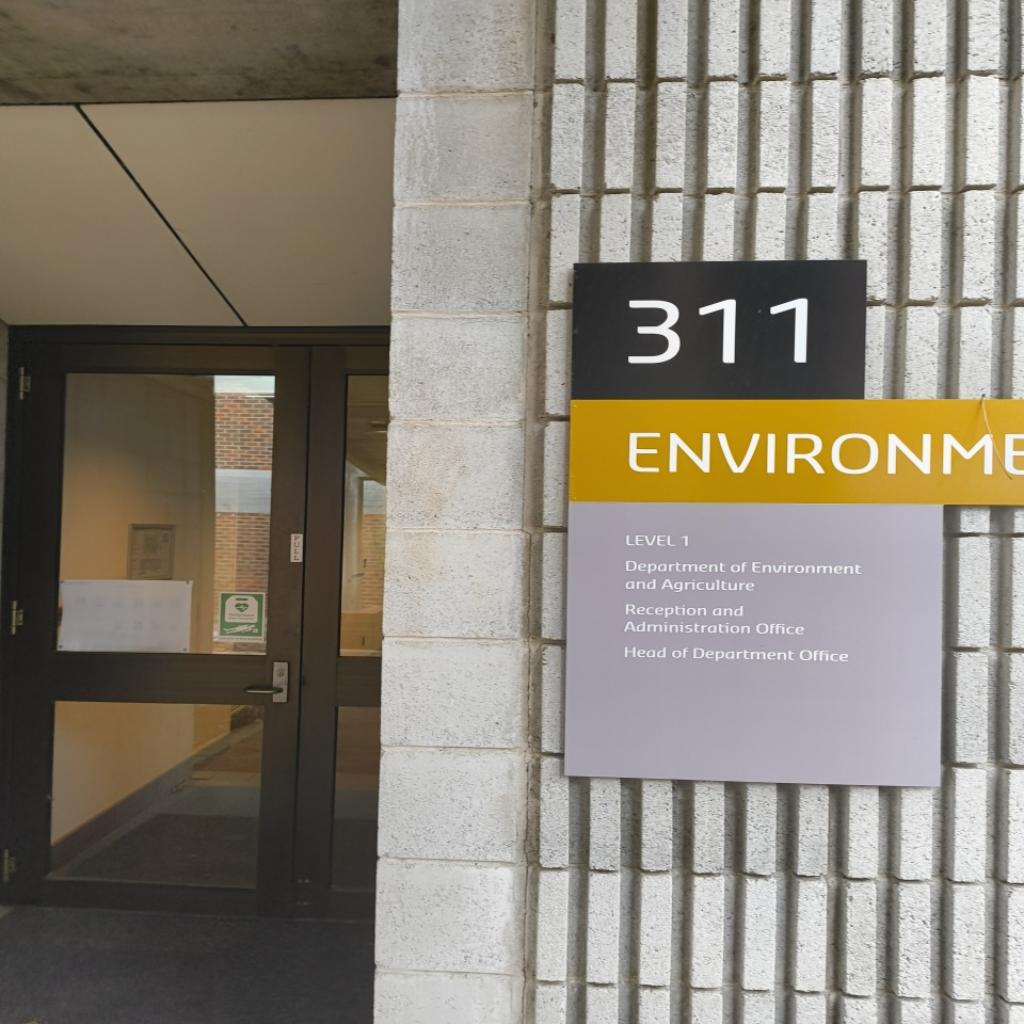BuildingCodes: (619, 288, 821, 374)
